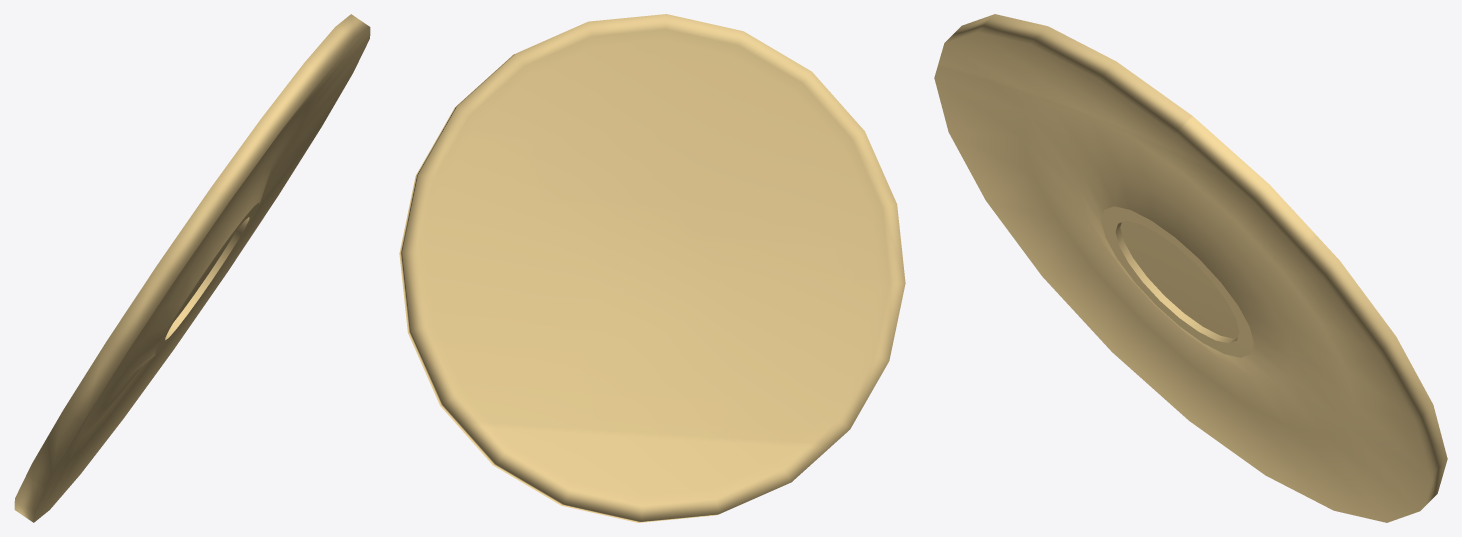
File: assiette.fbx
The picture shows the model from 3 angles, left to right: view 1: azimuth 30°, elevation 25°; view 2: azimuth 150°, elevation 25°; view 3: azimuth 270°, elevation 25°; orthographic projection. The views are drawn at different scales.
Visible parts, largest first — view 1: assiette; view 2: assiette; view 3: assiette.
Part boxes in pixels (<box>): assiette: <box>14,14,370,522</box>; assiette: <box>399,14,905,522</box>; assiette: <box>934,14,1447,522</box>.
Size of the model in its own units: 65.38 by 68.51 by 59.47.
